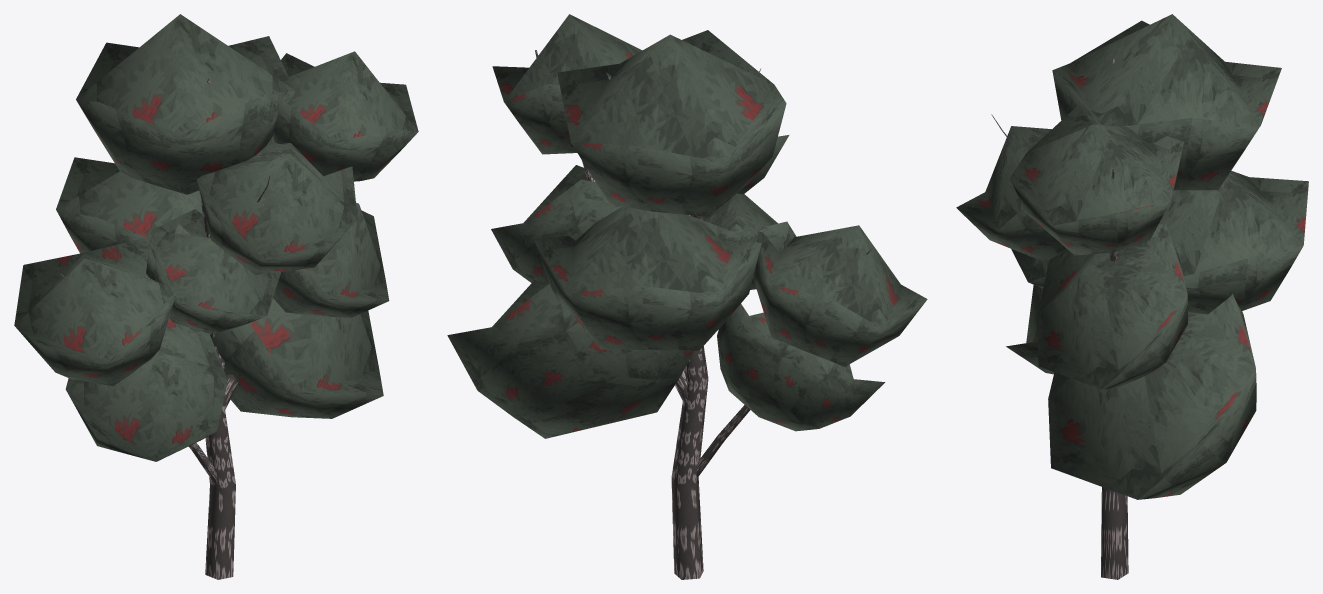
File: RowanTree.fbx
3 renders of one model, left to right at view 1: azimuth 30°, elevation 25°; view 2: azimuth 150°, elevation 25°; view 3: azimuth 270°, elevation 25°, orthographic. The views are drawn at different scales.
Parts seen in each view (by area): view 1: RowanTree1; view 2: RowanTree1; view 3: RowanTree1.
Part boxes in pixels (box(x1,y1,x2,y2)): RowanTree1: box(14, 14, 418, 579); RowanTree1: box(447, 14, 927, 579); RowanTree1: box(956, 14, 1308, 579).
Bounding box in the file's own units: 5.86 × 7.76 × 4.47.
2 materials, 2 textured.
